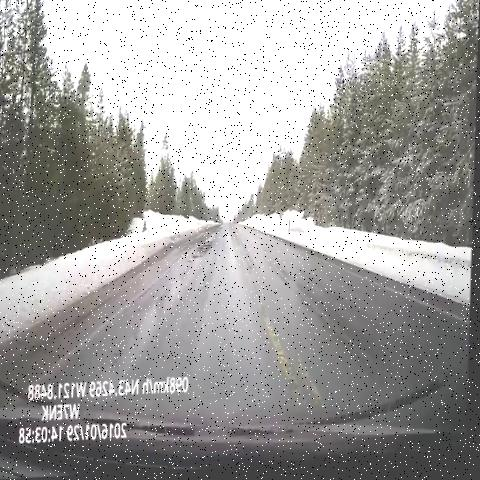pothole: (187, 238, 218, 275)
